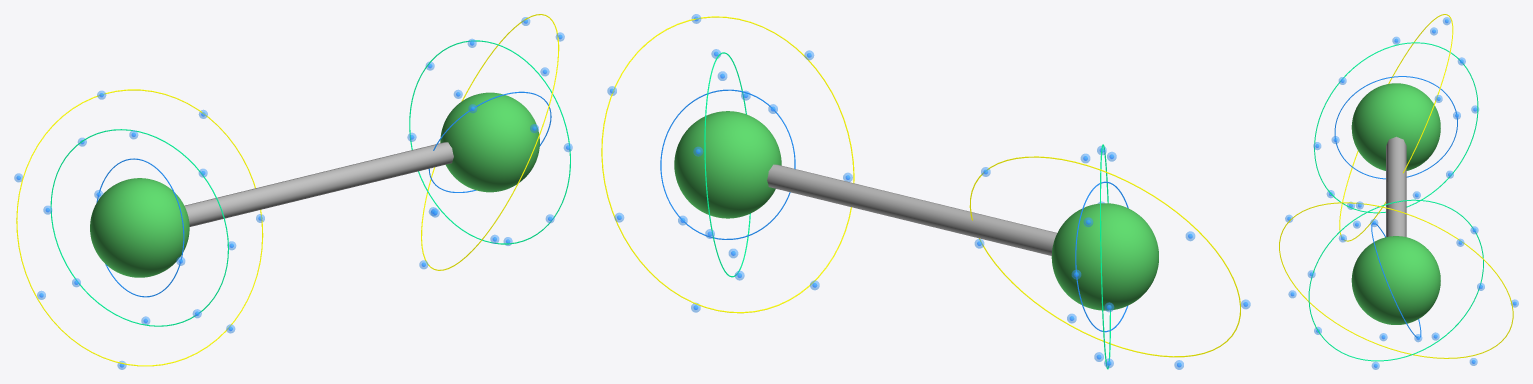
3 renders of one model, left to right at view 1: azimuth 30°, elevation 25°; view 2: azimuth 150°, elevation 25°; view 3: azimuth 270°, elevation 25°, orthographic. The views are drawn at different scales.
Visible parts, largest first — view 1: Cl (×2), object 77, object 24, object 7, object 45, object 62, object 2; view 2: Cl (×2), object 77, object 62, object 24, object 40, object 45, object 7; view 3: Cl (×2), object 77, object 62, object 45, object 7, object 24, object 2, object 40.
Boxes of the visible parts, x1,y1,x2,y2 form: Cl (×2): (90, 92, 539, 277); object 77: (184, 142, 453, 226); object 24: (16, 89, 263, 366); object 7: (50, 129, 228, 326); object 45: (409, 40, 570, 244); object 62: (421, 14, 559, 270); object 2: (96, 158, 184, 297); Cl (×2): (674, 111, 1158, 310); object 77: (767, 164, 1057, 255); object 62: (601, 16, 854, 313); object 24: (969, 156, 1240, 357); object 40: (660, 89, 795, 239); object 45: (704, 52, 750, 277); object 7: (1100, 144, 1110, 369); Cl (×2): (1351, 83, 1440, 324); object 77: (1386, 136, 1406, 236); object 62: (1279, 202, 1513, 358); object 45: (1308, 199, 1483, 361); object 7: (1314, 42, 1478, 213); object 24: (1339, 14, 1453, 241); object 2: (1334, 76, 1457, 179); object 40: (1371, 222, 1421, 338).
Size of the model in its own units: 10.92 by 4.41 by 4.65.
